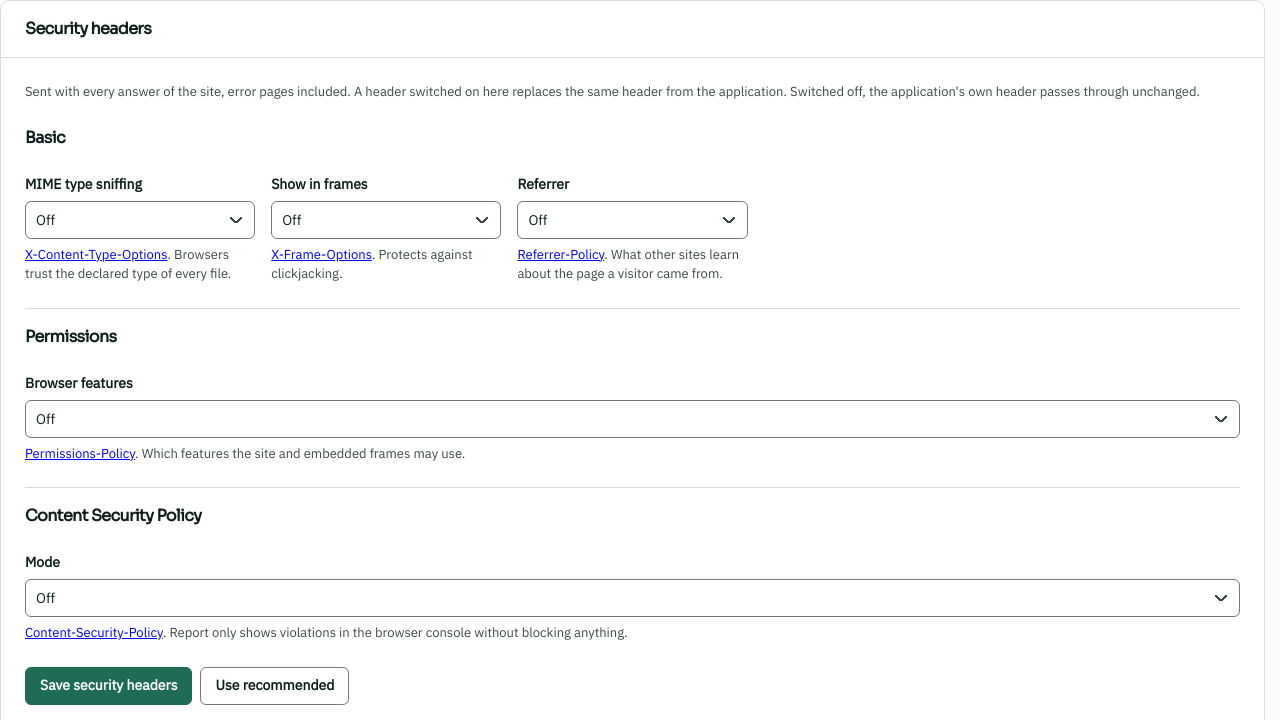
Scenario: SecurityHeadersCard › shows a snippet conflict
Click the button "Use recommended". click: [275, 686]
box: [200,666,349,704]
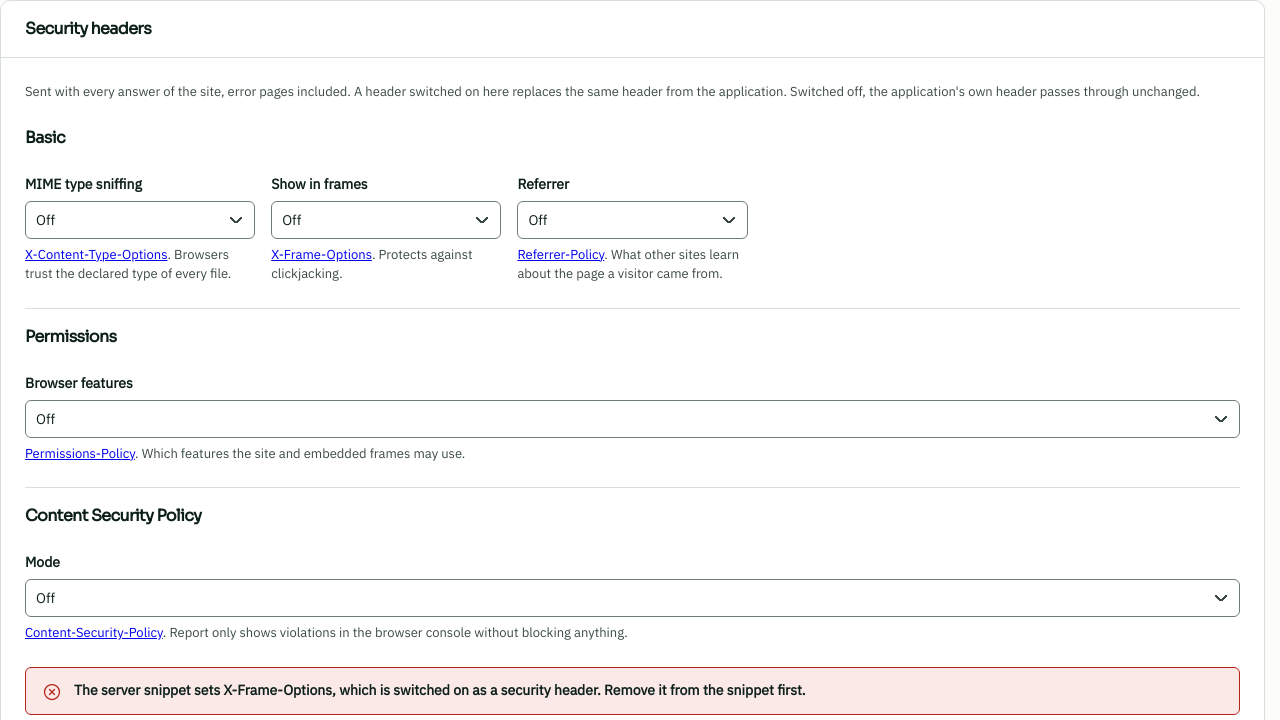
Expected: the message shows "The server snippet sets X-Frame-Options, which is switched on as a security header. Remove it from the snippet first.", [74,680,806,698]
